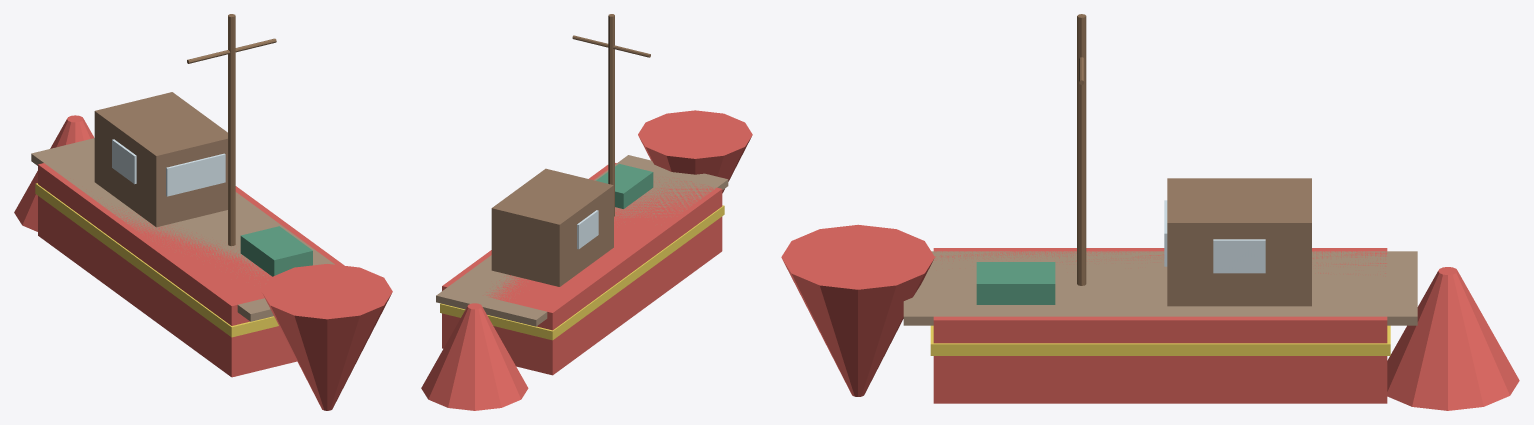
The model's file is prop_coastal_boat.glb.
3 renders of one model, left to right at view 1: azimuth 30°, elevation 25°; view 2: azimuth 150°, elevation 25°; view 3: azimuth 270°, elevation 25°, orthographic. The views are drawn at different scales.
Parts seen in each view (by area): view 1: Boat_Hull_Main, Wheelhouse_Body, Boat_Bow, Boat_Deck, Boat_Waterline_Stripe, Net_Pile, Boat_Mast, Cabin_Win_Front, Boat_Stern, Cabin_Win_L, Boat_Crossbar; view 2: Boat_Hull_Main, Wheelhouse_Body, Boat_Stern, Boat_Deck, Boat_Bow, Boat_Waterline_Stripe, Net_Pile, Boat_Mast, Cabin_Win_L, Boat_Crossbar; view 3: Boat_Hull_Main, Boat_Deck, Wheelhouse_Body, Boat_Bow, Boat_Stern, Boat_Waterline_Stripe, Net_Pile, Boat_Mast, Cabin_Win_R.
Part boxes in pixels (x1=…): Boat_Hull_Main: x1=38, y1=163, x2=344, y2=377; Wheelhouse_Body: x1=94, y1=92, x2=227, y2=227; Boat_Bow: x1=261, y1=264, x2=392, y2=410; Boat_Deck: x1=31, y1=138, x2=334, y2=321; Boat_Waterline_Stripe: x1=35, y1=183, x2=278, y2=337; Net_Pile: x1=240, y1=226, x2=312, y2=276; Boat_Mast: x1=228, y1=14, x2=235, y2=246; Cabin_Win_Front: x1=166, y1=153, x2=225, y2=196; Boat_Stern: x1=14, y1=115, x2=94, y2=231; Cabin_Win_L: x1=112, y1=139, x2=136, y2=184; Boat_Crossbar: x1=187, y1=38, x2=276, y2=63; Boat_Hull_Main: x1=442, y1=163, x2=722, y2=375; Wheelhouse_Body: x1=491, y1=168, x2=613, y2=286; Boat_Stern: x1=421, y1=303, x2=528, y2=410; Boat_Deck: x1=436, y1=155, x2=728, y2=326; Boat_Bow: x1=638, y1=110, x2=752, y2=193; Boat_Waterline_Stripe: x1=440, y1=205, x2=724, y2=340; Net_Pile: x1=596, y1=163, x2=653, y2=208; Boat_Mast: x1=608, y1=14, x2=614, y2=216; Cabin_Win_L: x1=577, y1=210, x2=598, y2=249; Boat_Crossbar: x1=572, y1=35, x2=650, y2=57; Boat_Hull_Main: x1=933, y1=248, x2=1387, y2=403; Boat_Deck: x1=903, y1=251, x2=1417, y2=325; Wheelhouse_Body: x1=1167, y1=178, x2=1311, y2=306; Boat_Bow: x1=781, y1=224, x2=934, y2=396; Boat_Stern: x1=1387, y1=267, x2=1519, y2=410; Boat_Waterline_Stripe: x1=930, y1=325, x2=1390, y2=355; Net_Pile: x1=976, y1=262, x2=1055, y2=304; Boat_Mast: x1=1077, y1=14, x2=1086, y2=285; Cabin_Win_R: x1=1213, y1=239, x2=1265, y2=273.
Bounding box in the file's own units: 2.65 × 6.35 × 11.23.
